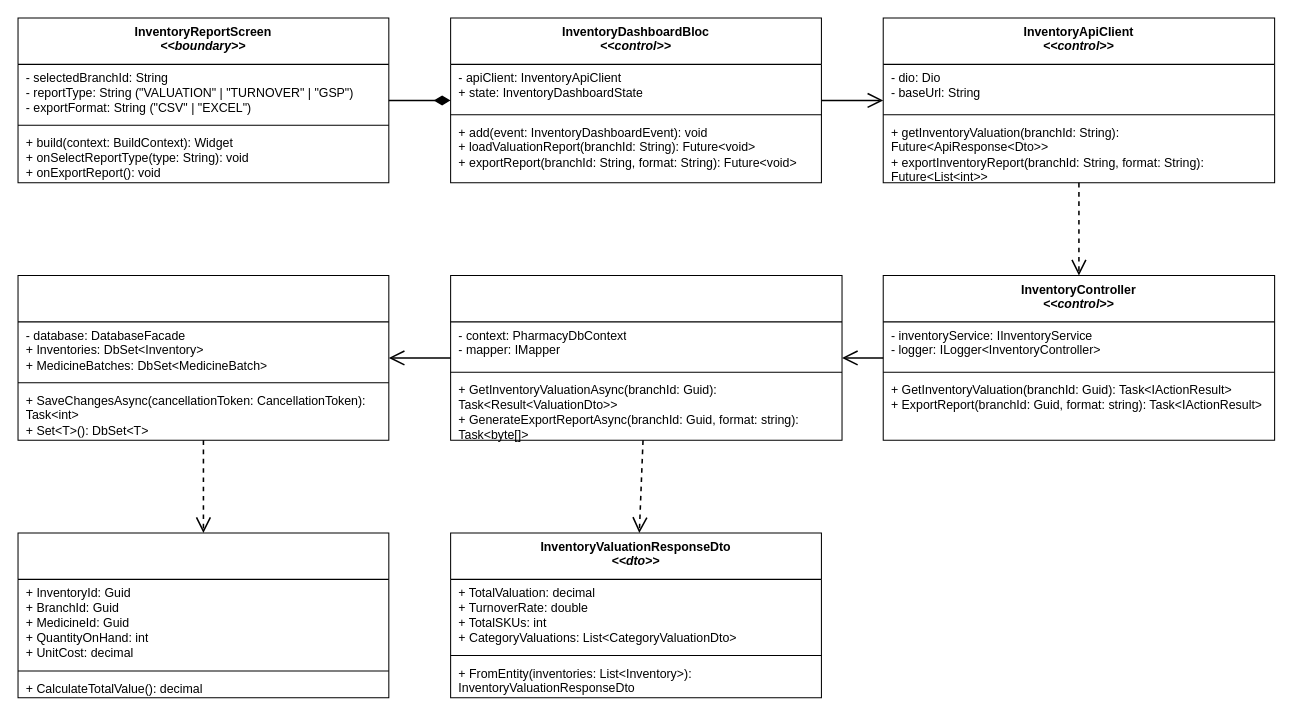
Some shapes in this 1293 by 719 pixel diagram are drawn without their labels. The shapes that lost their labels are listed below. From the top down, each one's box as (x1, y1, x2, y2) in pixels, then its label:
(17, 274, 389, 440): PharmacyDbContext <<repository>>
(450, 274, 842, 440): InventoryService <<service>>
(17, 532, 389, 698): Inventory <<entity>>
